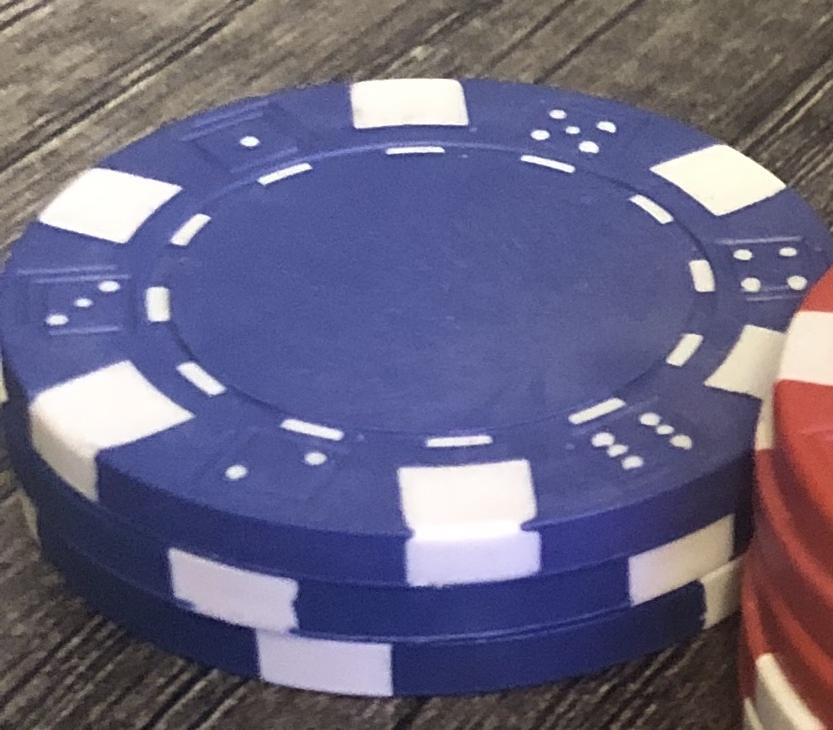Chip: (1, 1, 833, 730)
